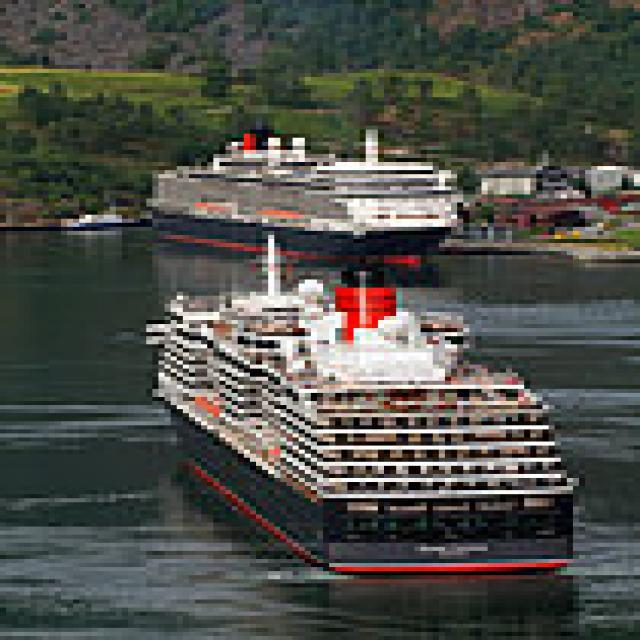Ship: (129, 232, 574, 577), (135, 119, 470, 273)
